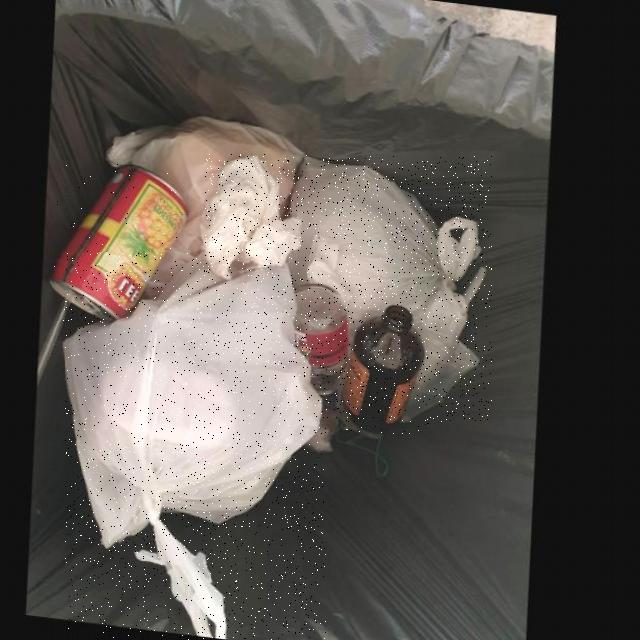glass: (345, 305, 430, 433), (298, 284, 355, 395)
metal: (52, 163, 193, 320)
paper: (206, 154, 307, 281)
plastic: (65, 252, 326, 640), (291, 156, 492, 421)
